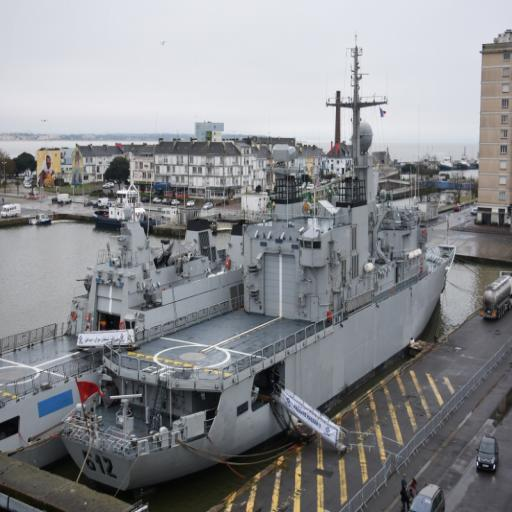Fragata: (58, 30, 458, 493)
